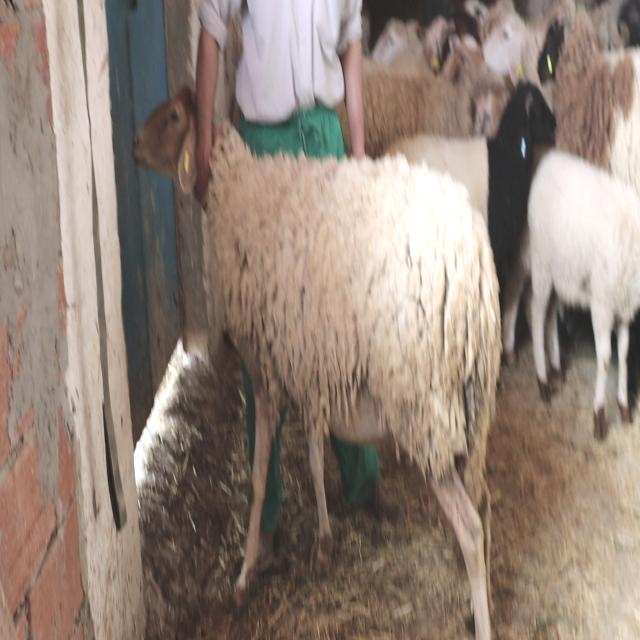Score_5: (205, 124, 501, 639)
